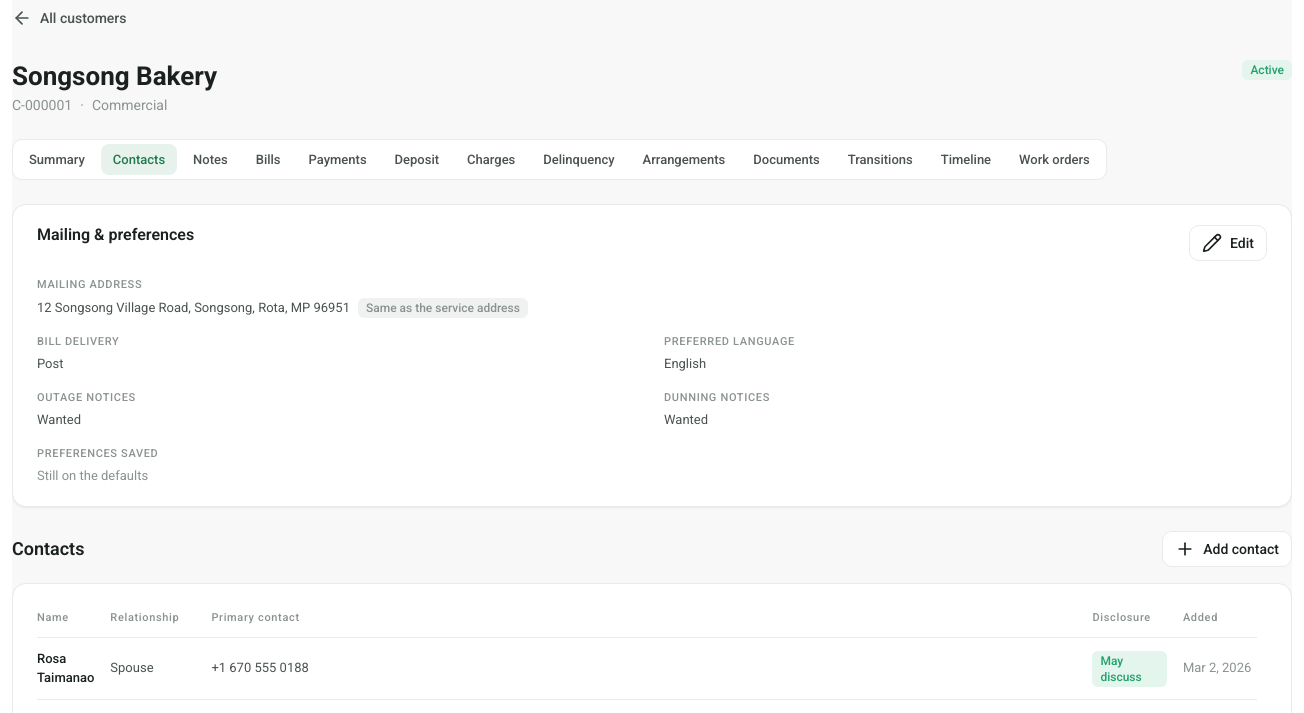
Scenario: the mailing address and preferences › opens the form with the override off while post follows the service address
Expected: the text "Same as the service address" is shown, x1=358 y1=298 x2=528 y2=318
Click the button "Edit": coordinates (1228, 243) x1=1189 y1=225 x2=1267 y2=261
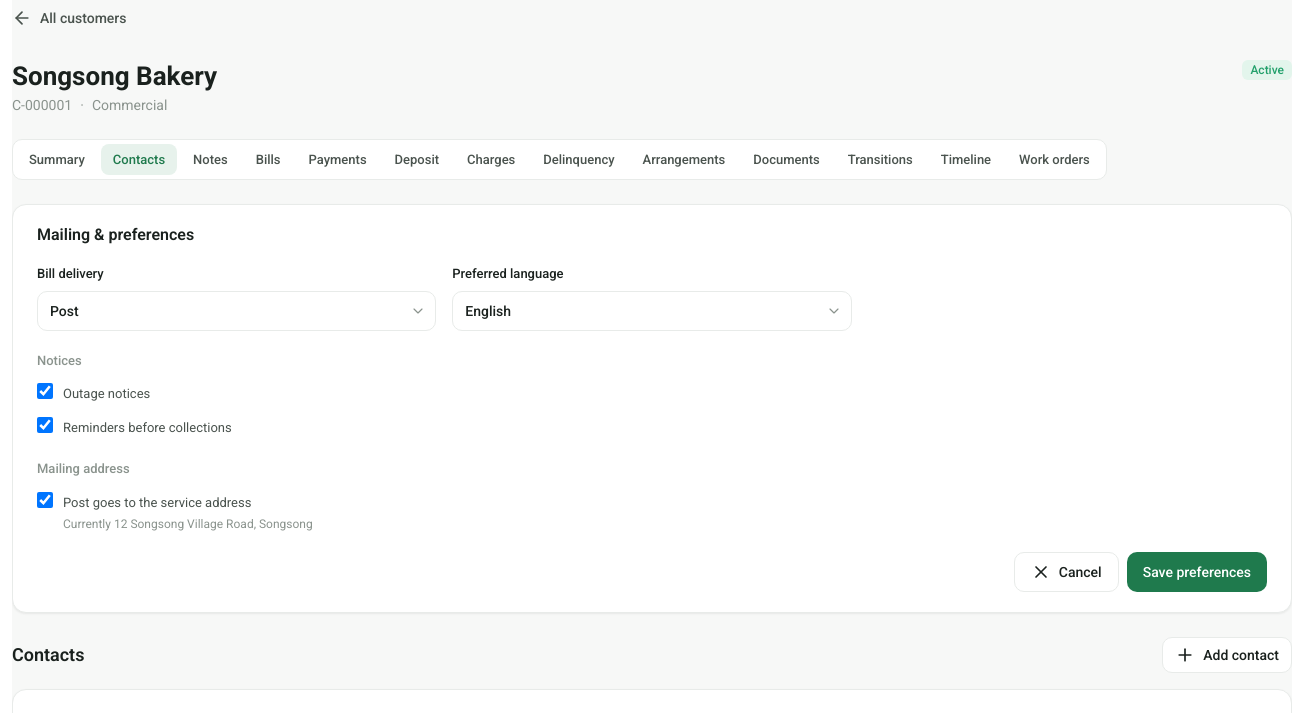
Now the checkbox labelled "Post goes to the service address" is checked, box x1=37 y1=492 x2=53 y2=508
